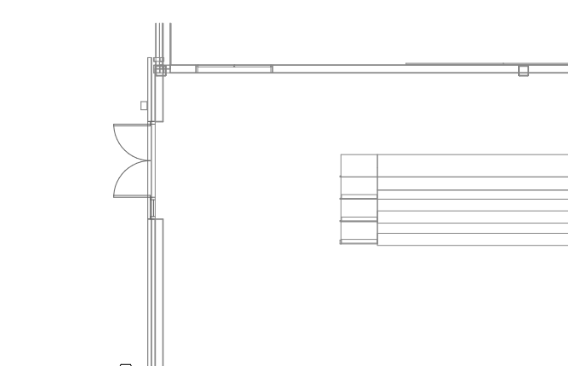double door: (110, 121, 157, 202)
window: (191, 58, 277, 81)
